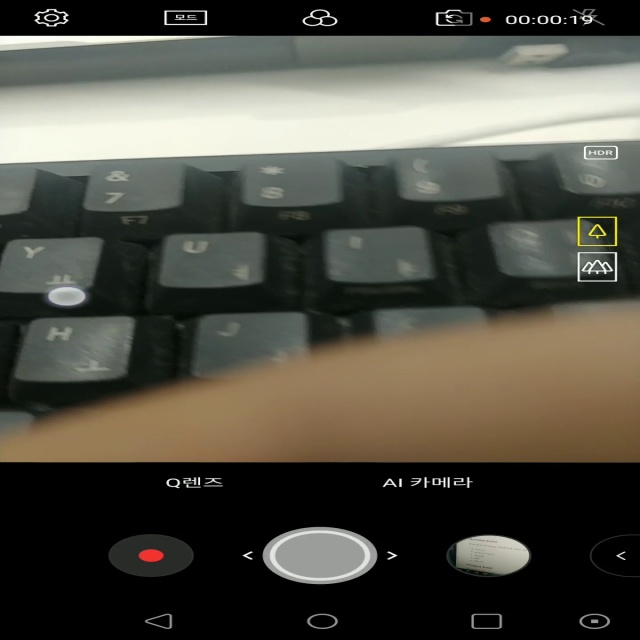Cursor: (46, 286, 90, 308)
